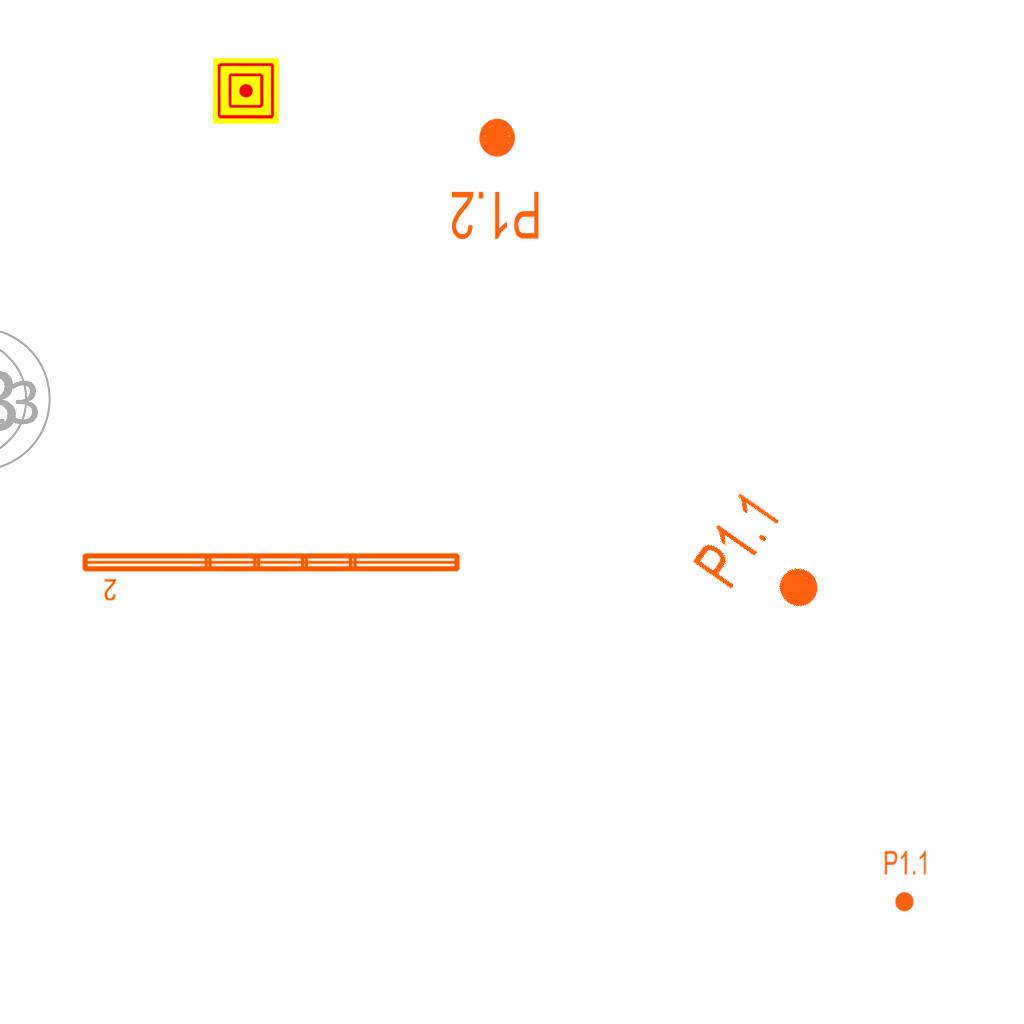Ambulanz_Pendelleuchte_LED: (78, 547, 465, 603)
Downlight_LED_Einbauleuchten_Flur: (687, 486, 846, 636), (449, 115, 542, 243), (883, 849, 929, 913)
NAM-Nichtautomatischer_Melder: (213, 58, 279, 124)
